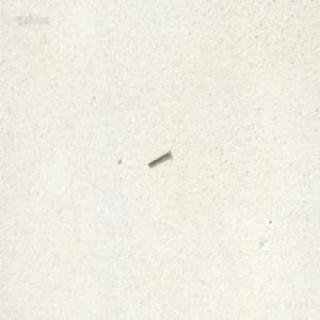Bolttrack_idkeyframe: (146, 146, 170, 166)
